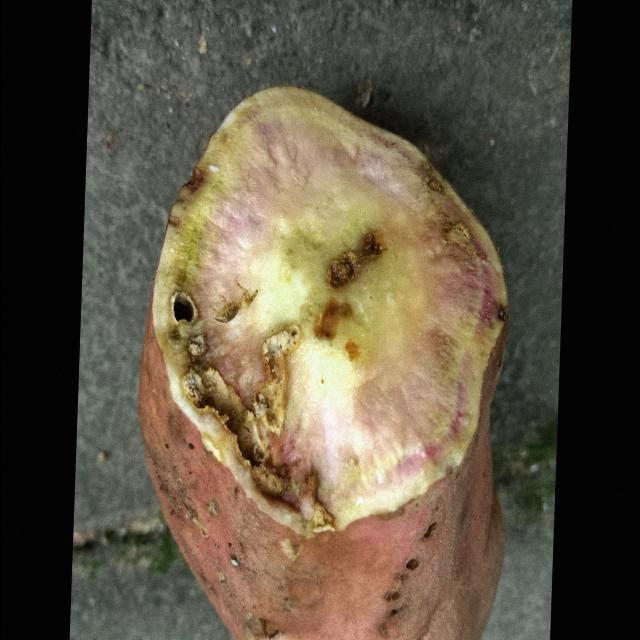Sick Sweet Potato_Tuber Rot: (151, 87, 506, 537)
